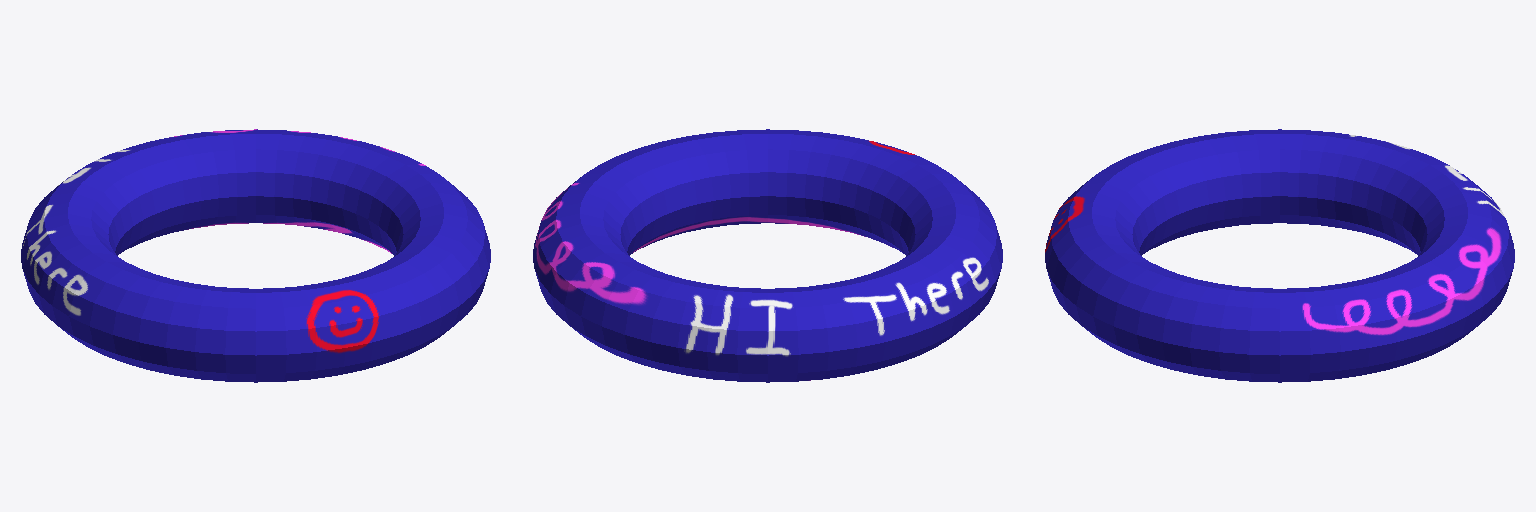
The picture shows the model from 3 angles: view 1: azimuth 30°, elevation 25°; view 2: azimuth 150°, elevation 25°; view 3: azimuth 270°, elevation 25°; orthographic projection.
Parts seen in each view (by area): view 1: Torus.001; view 2: Torus.001; view 3: Torus.001.
Boxes of the visible parts, <box> form: Torus.001: <box>21,129,490,382</box>; Torus.001: <box>533,129,1002,382</box>; Torus.001: <box>1045,129,1514,382</box>.
Size of the model in its own units: 2.5 by 0.5 by 2.5.
Materials: 1 (1 with a texture image).